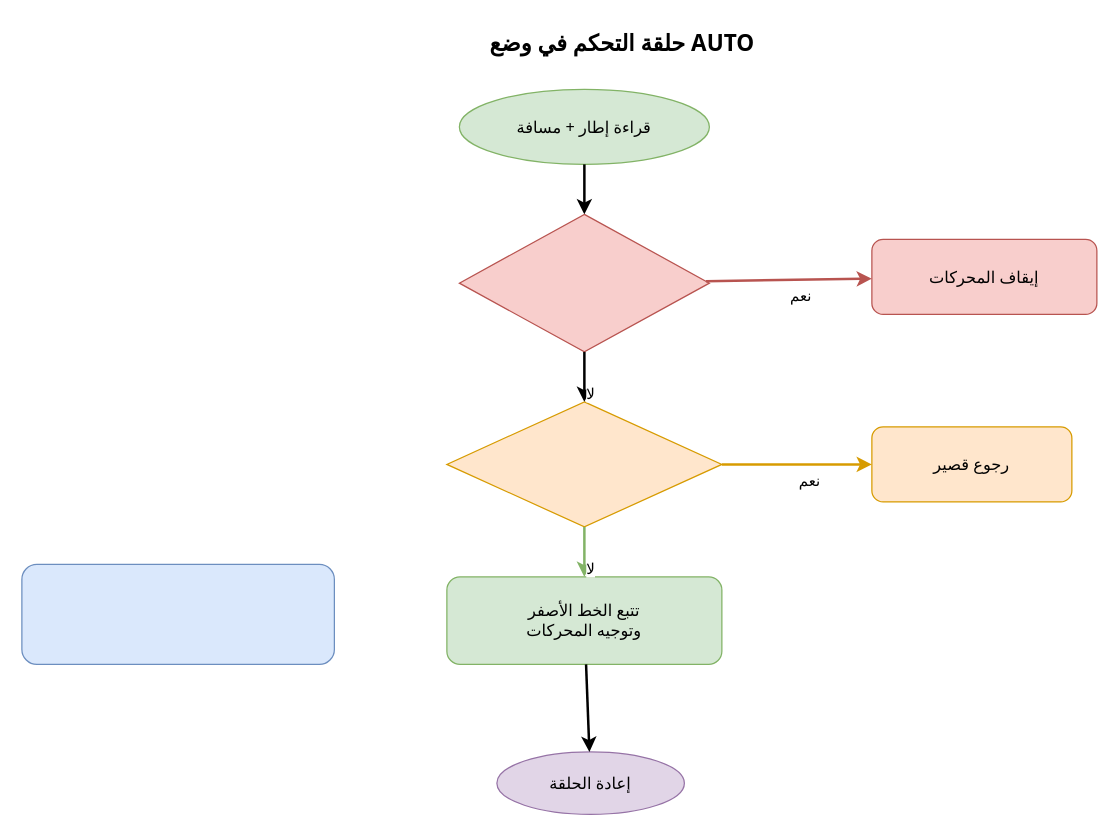
The diagram is 1119 pixels wide and 836 high, and some of its shapes have lost their labels. Each missing label, with the centre of its shape:
"إذا وُجد حد 30 أو 50 سرعة القيادة = قيمة الشاخصة" belongs at [177,613].
"شاخصة STOP أو إشارة حمراء؟" belongs at [583,282].
"مسافة أقل من 18 سم؟" belongs at [584,464].
